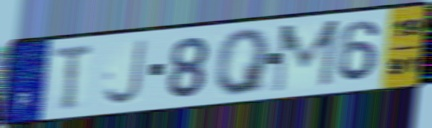6: (338, 20, 380, 84)
8: (168, 35, 210, 99)
J: (101, 37, 148, 108)
M: (270, 17, 342, 95)
Q: (215, 26, 274, 98)
T: (51, 42, 96, 113)
